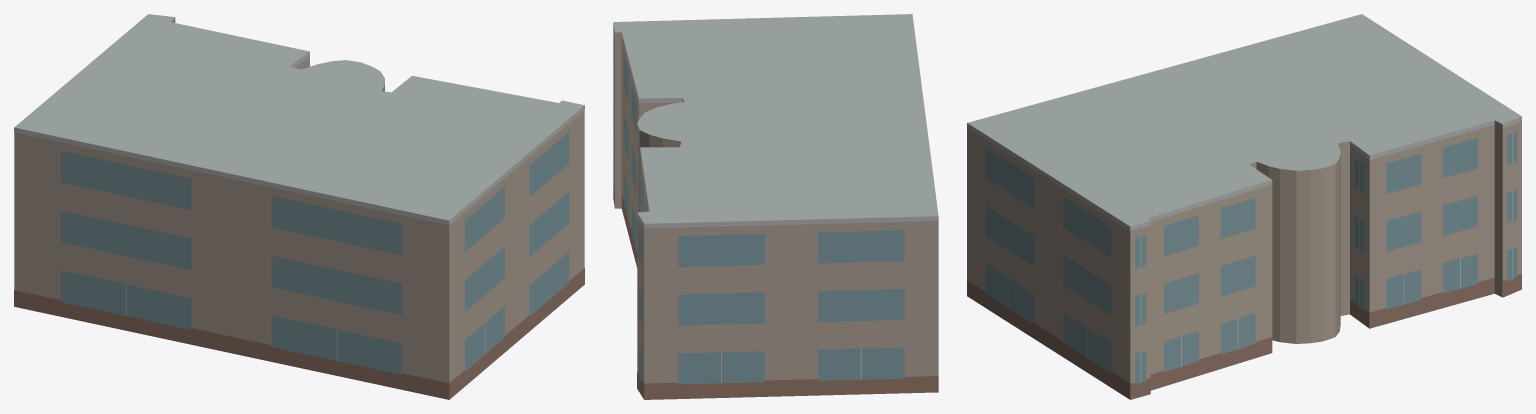
File: survey-upis-32673267.glb
The picture shows the model from 3 angles, left to right: view 1: azimuth 30°, elevation 25°; view 2: azimuth 150°, elevation 25°; view 3: azimuth 270°, elevation 25°; orthographic projection. The views are drawn at different scales.
Parts seen in each view (by area): view 1: survey-upis-32673267.tmp; view 2: survey-upis-32673267.tmp; view 3: survey-upis-32673267.tmp.
Part boxes in pixels (x1=…): survey-upis-32673267.tmp: x1=14, y1=14, x2=584, y2=399; survey-upis-32673267.tmp: x1=613, y1=14, x2=938, y2=399; survey-upis-32673267.tmp: x1=967, y1=14, x2=1521, y2=399.
Size of the model in its own units: 24.09 by 9.15 by 26.56.
